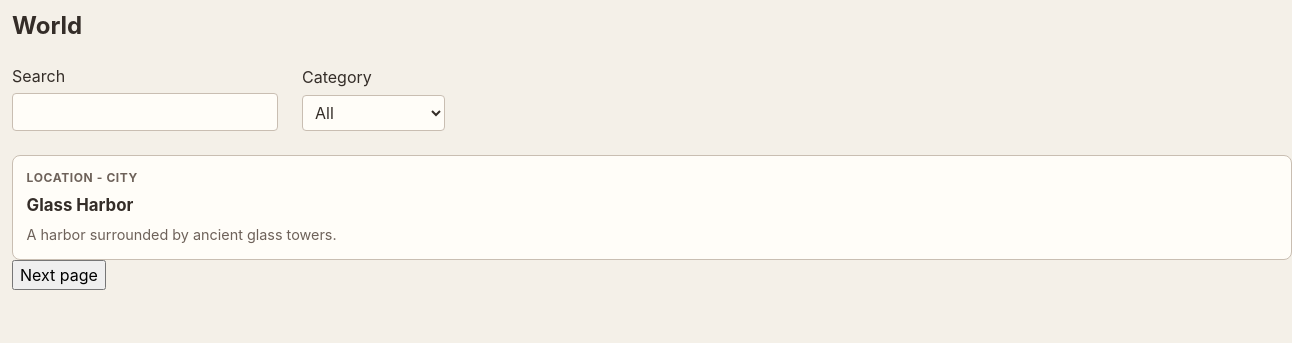
Test: CampaignWorldPage › keeps showing the previous results, busy, while a filter change refreshes
This screenshot has width=1292, height=343.
Expected: the text "Glass Harbor" is shown, [27,195,133,215]
Step 1. Select "Events" in the dropdown labelled "Category" → point(374, 113), box [302,95,445,131]
Wait 200 ms
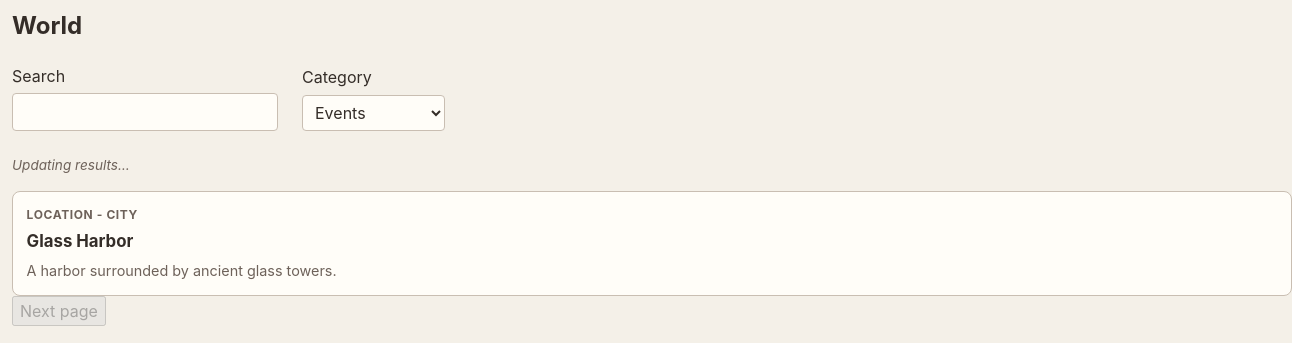
Expected: the text "Glass Harbor" is shown, [27,231,133,251]
Now the text "Updating results…" is shown, box [12,157,130,173]
